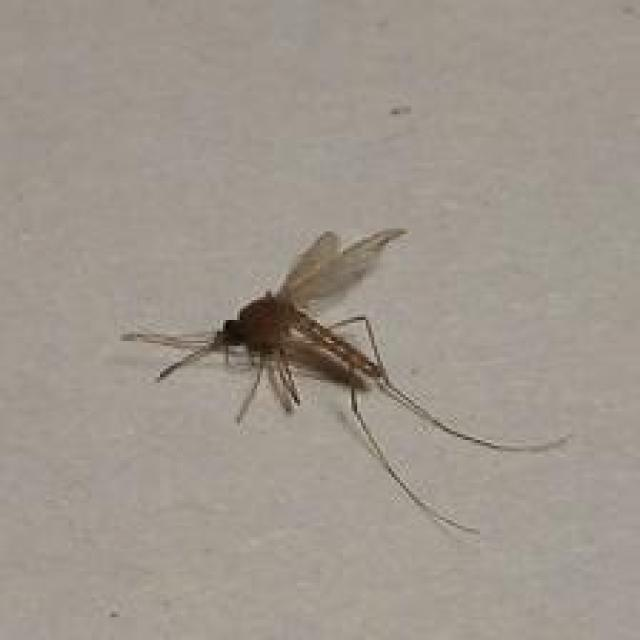Culex: (120, 224, 571, 539)
